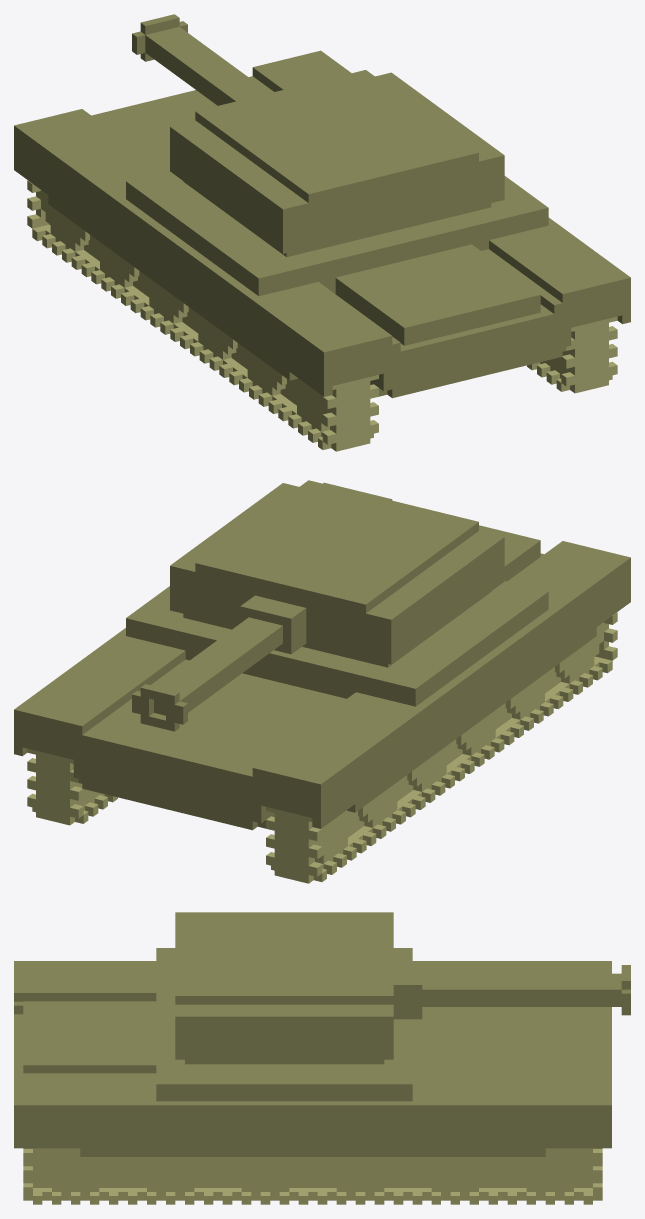
File: veh_tank1.obj
The picture shows the model from 3 angles, top to bottom: view 1: azimuth 30°, elevation 25°; view 2: azimuth 150°, elevation 25°; view 3: azimuth 270°, elevation 25°; orthographic projection. The views are drawn at different scales.
Bounding box in the file's own units: 36 × 21 × 65.
